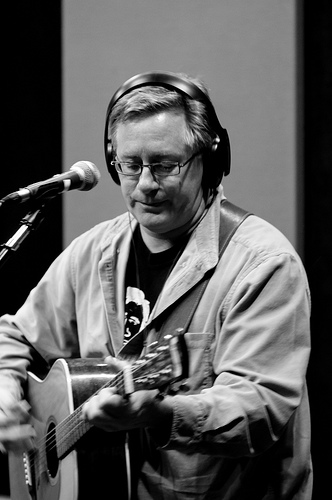guitar: (7, 330, 191, 500)
